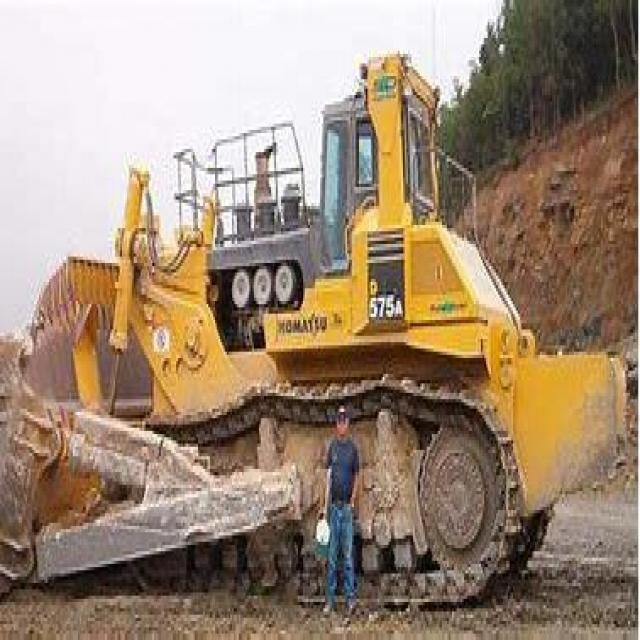Bulldozer: (2, 32, 621, 596)
